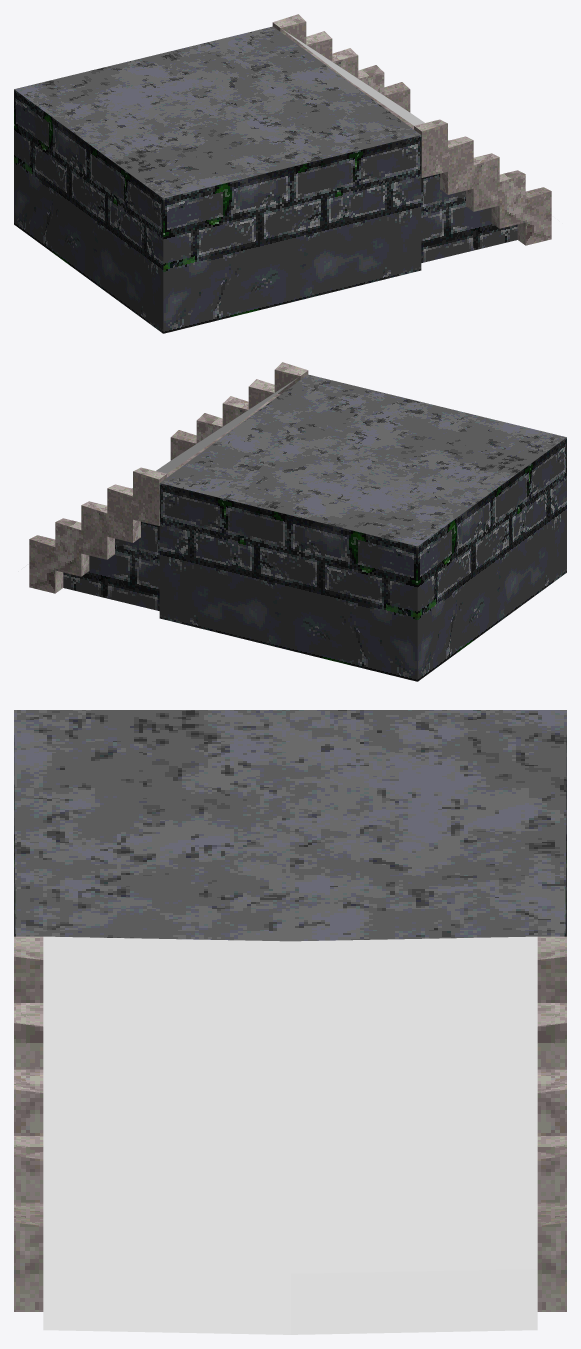
Rendered from block_2x2stair.gltf.
3 renders of one model, top to bottom at view 1: azimuth 30°, elevation 25°; view 2: azimuth 150°, elevation 25°; view 3: azimuth 270°, elevation 25°, orthographic. The views are drawn at different scales.
Parts seen in each view (by area): view 1: block_2x2stair, 1m stair.002, colplane-colonly.005; view 2: block_2x2stair, 1m stair.002, colplane-colonly.005; view 3: colplane-colonly.005, block_2x2stair, 1m stair.002.
Boxes of the visible parts, x1,y1,x2,y2 form: block_2x2stair: (14, 26, 421, 333); 1m stair.002: (272, 14, 551, 262); colplane-colonly.005: (282, 29, 448, 140); block_2x2stair: (159, 374, 566, 681); 1m stair.002: (29, 362, 308, 610); colplane-colonly.005: (132, 377, 298, 488); colplane-colonly.005: (43, 936, 537, 1334); block_2x2stair: (14, 710, 566, 941); 1m stair.002: (14, 936, 566, 1311).
Bounding box in the file's own units: 3.18 × 1.05 × 2.
Materials: 1 (1 with a texture image).
